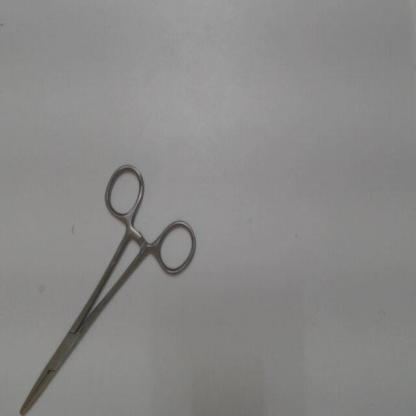Mayo Needle Holder: (11, 156, 204, 413)
